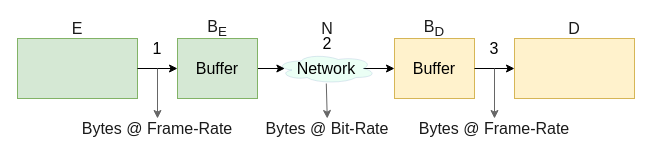
This 652x156 diagram has some shape labels left out. Here are the shapes that lost their labels. From the top down, the centre of each, then its label:
At (x=77, y=68): "Encoder".
At (x=574, y=68): "Decoder".
